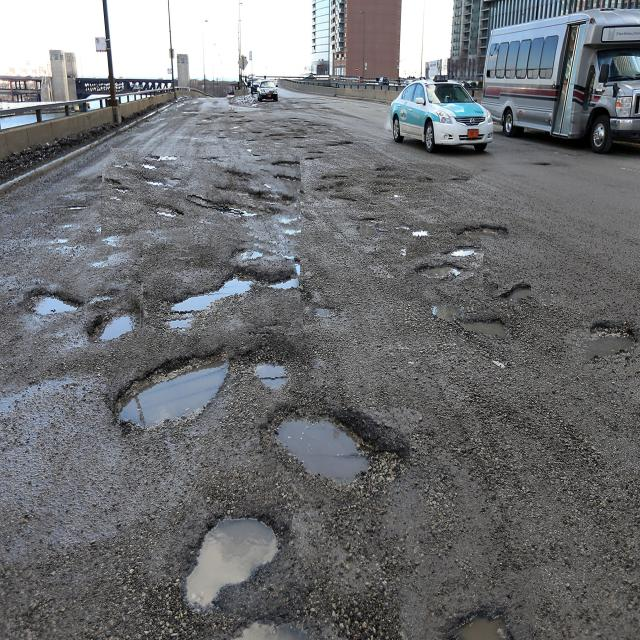Pothole: (101, 156, 303, 241), (140, 235, 303, 335), (263, 406, 410, 507), (180, 501, 289, 617), (105, 346, 238, 435), (425, 578, 536, 640), (584, 292, 640, 380), (421, 307, 524, 346), (88, 284, 144, 351), (19, 281, 86, 333), (406, 244, 483, 286), (245, 334, 296, 389), (451, 207, 511, 240), (498, 267, 531, 304), (393, 219, 428, 240)
